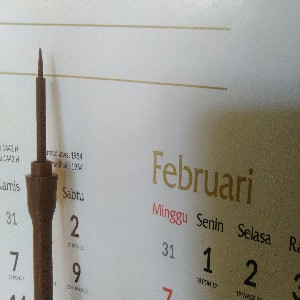solder: (24, 46, 59, 300)
